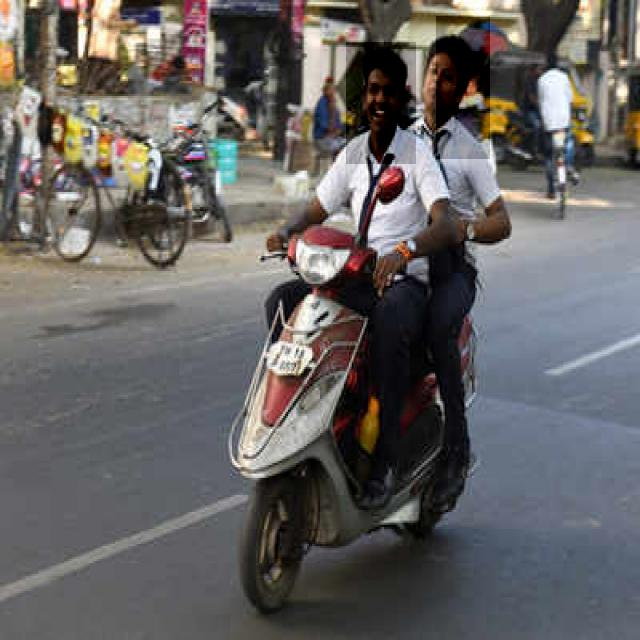No_Helmet: (346, 42, 416, 164), (436, 16, 490, 159)
